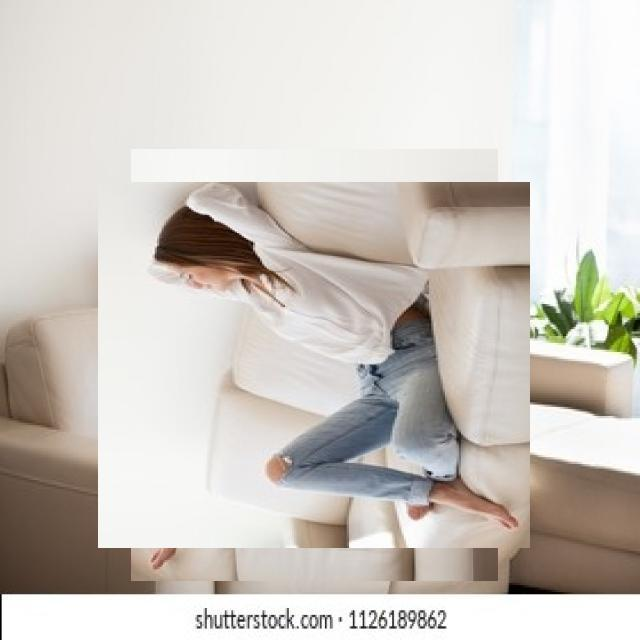NotFall: (115, 206, 550, 580)
